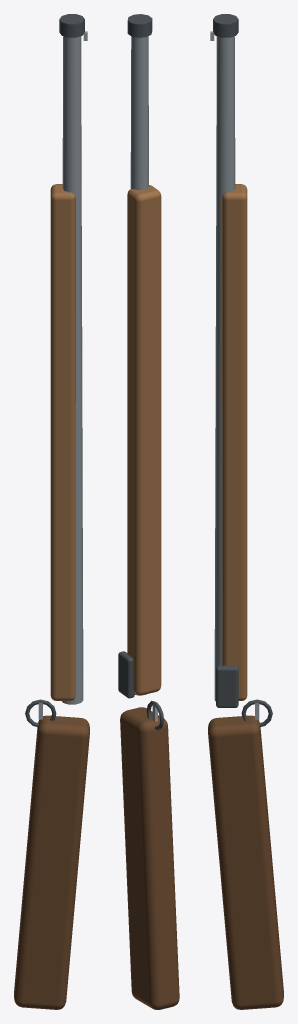
File: musket.glb
3 renders of one model, left to right at view 1: azimuth 90°, elevation 25°; view 2: azimuth 210°, elevation 25°; view 3: azimuth 270°, elevation 25°, orthographic.
Visible parts, largest first — view 1: musket-stock, musket-forestock, musket-barrel, musket-muzzle-ring, musket-trigger-guard; view 2: musket-forestock, musket-stock, musket-barrel, musket-lock, musket-muzzle-ring, musket-trigger-guard; view 3: musket-stock, musket-forestock, musket-barrel, musket-lock, musket-muzzle-ring, musket-trigger-guard.
Boxes of the visible parts, x1,y1,x2,y2 form: musket-stock: [14, 715, 89, 1009]; musket-forestock: [50, 184, 75, 700]; musket-barrel: [62, 36, 83, 704]; musket-muzzle-ring: [59, 14, 84, 37]; musket-trigger-guard: [25, 699, 56, 726]; musket-forestock: [127, 185, 161, 695]; musket-stock: [120, 707, 179, 1009]; musket-barrel: [130, 36, 148, 695]; musket-lock: [118, 651, 134, 698]; musket-muzzle-ring: [127, 14, 152, 37]; musket-trigger-guard: [146, 700, 164, 730]; musket-stock: [208, 715, 283, 1009]; musket-forestock: [222, 184, 247, 700]; musket-barrel: [214, 36, 235, 701]; musket-lock: [216, 665, 238, 707]; musket-muzzle-ring: [213, 14, 238, 37]; musket-trigger-guard: [241, 699, 272, 726].
Size of the model in its own units: 0.0393 by 1.13 by 0.0789.
